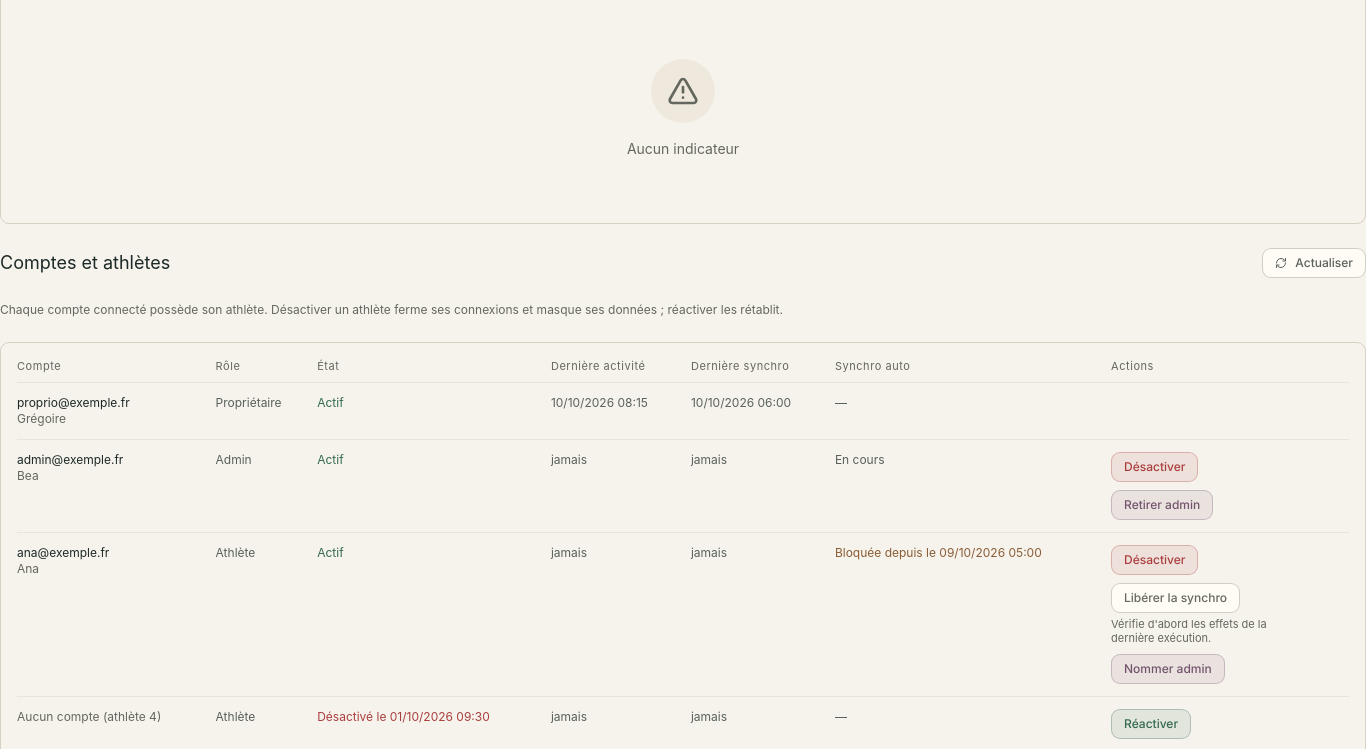
Test: offers role changes to the owner only, never on the owner row
(page scrolled)
Expected: the button "Retirer admin" is shown, [1111,490,1213,520]
What coordinates should you click on to do the following:
click the button "Nommer admin"
I would click on:
 (1168, 669)
Its box is [1111,654,1225,684].
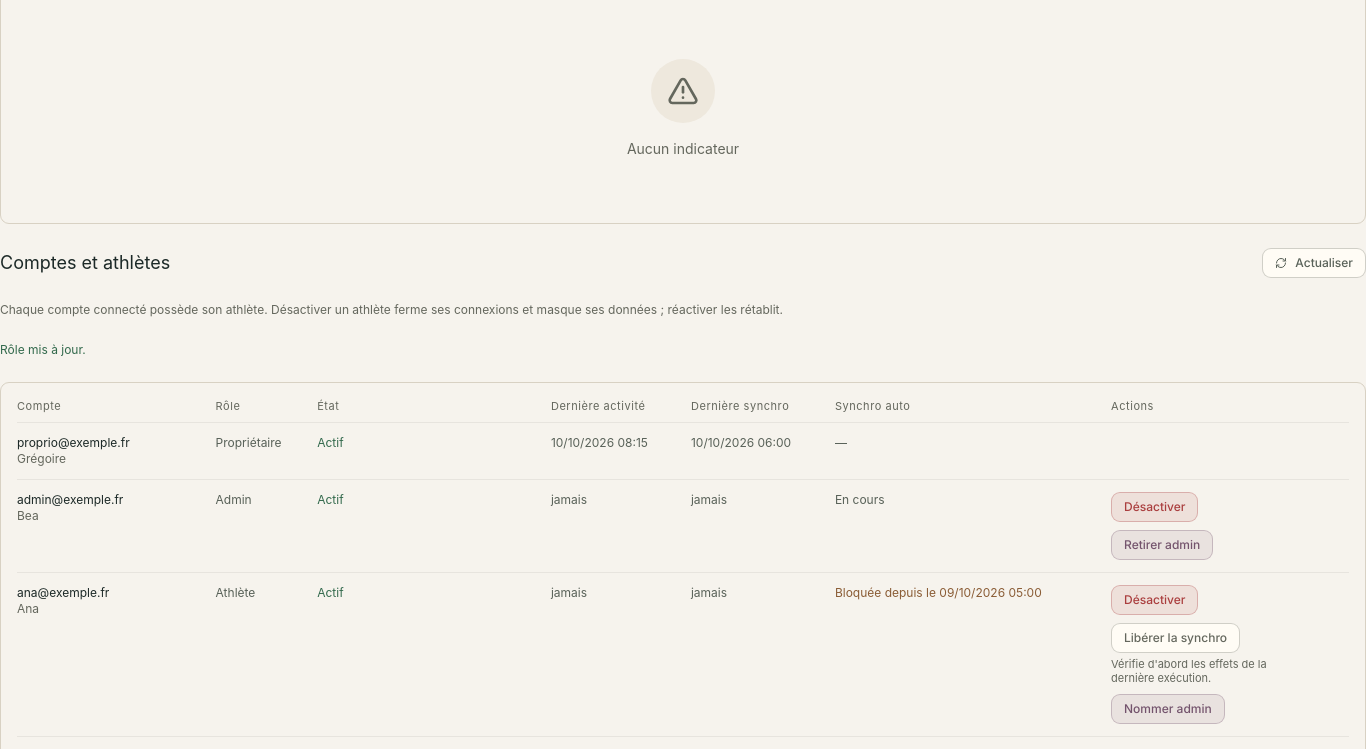
Result: the message reads "Rôle mis à jour." at [0,342,86,357]
